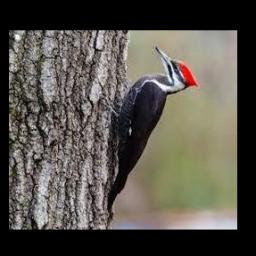Woodpecker: (103, 45, 199, 219)
